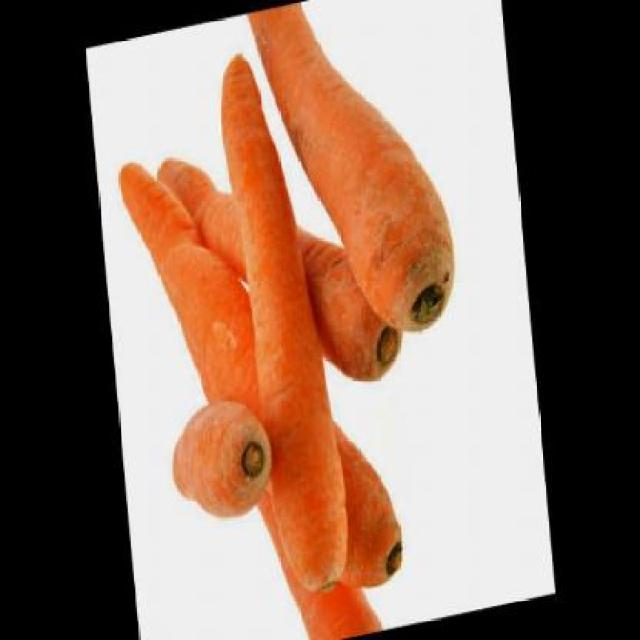carrot: (115, 110, 407, 632), (228, 0, 462, 366), (213, 36, 353, 604), (154, 110, 406, 421), (255, 457, 407, 638), (166, 388, 277, 527)
